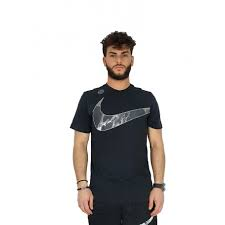nike: (77, 88, 171, 144)
